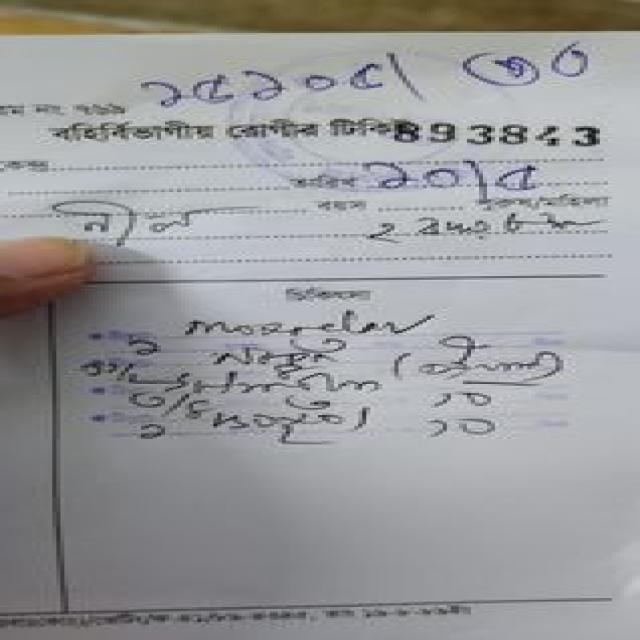Boxol: (171, 401, 391, 442)
Moxaclav: (170, 298, 462, 345)
Napa: (193, 345, 364, 369)
Salmolin: (148, 361, 398, 404)
